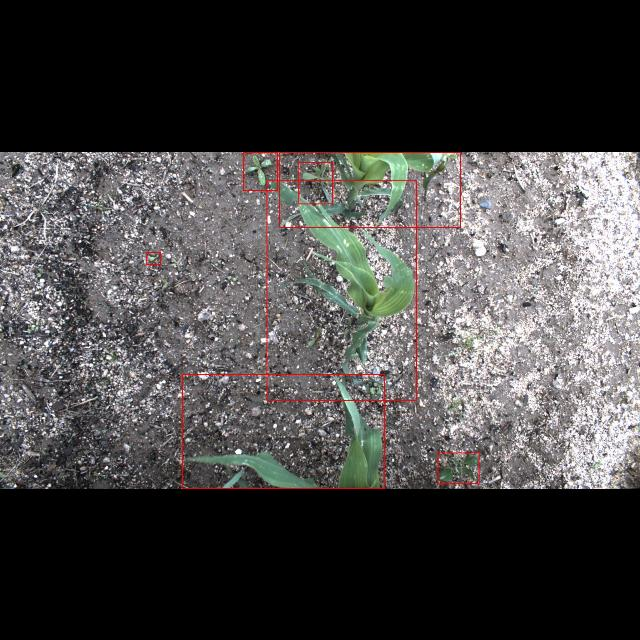crop: (266, 180, 416, 400), (182, 374, 384, 488), (280, 152, 460, 226)
weed: (299, 162, 333, 202), (244, 151, 278, 189), (438, 452, 478, 483), (146, 252, 160, 264)
